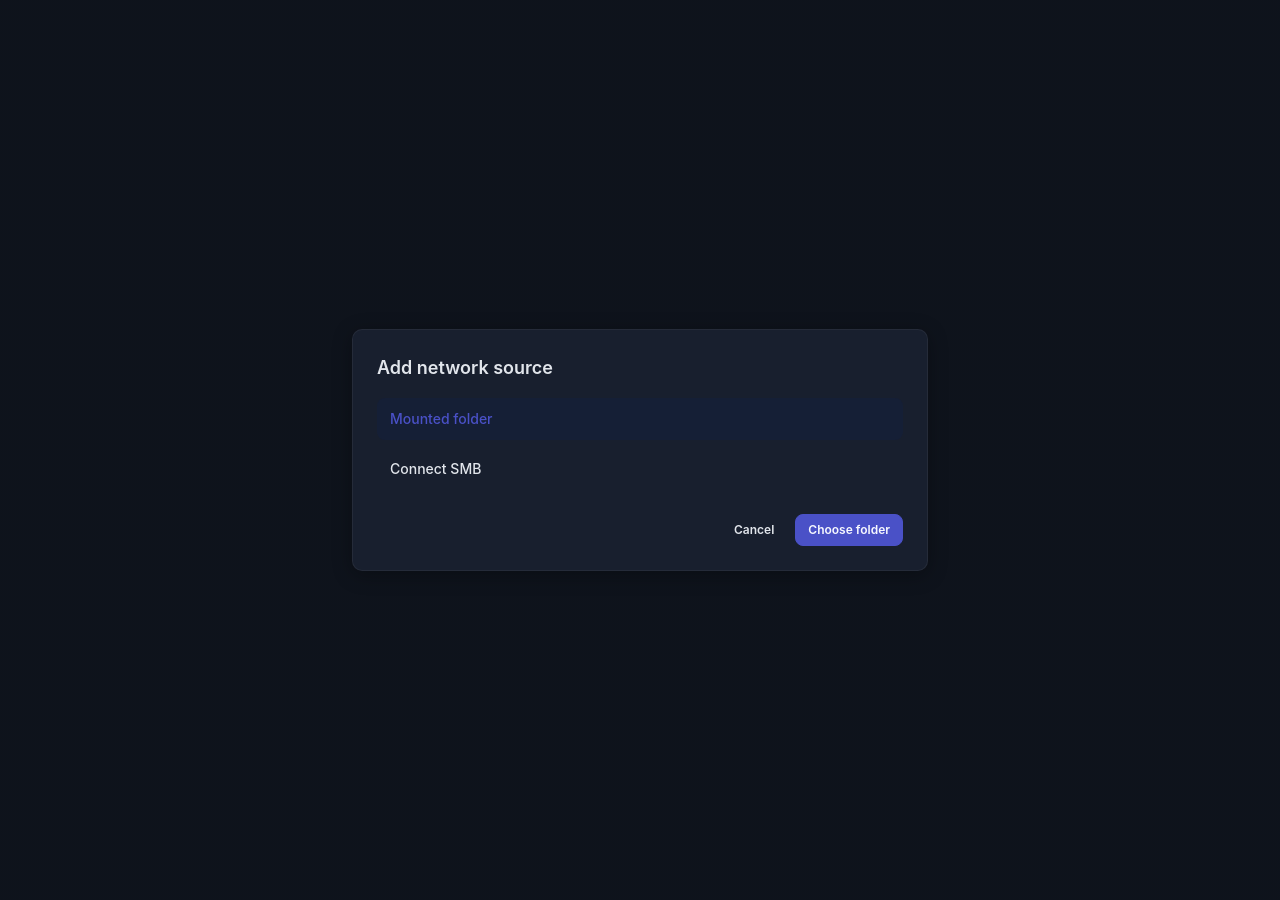
SmbConnectDialog › switches back to mounted mode
What coordinates should you click on to do the following:
click the button "Connect SMB"
I would click on:
 (436, 468)
Its box is [377,448,903,490].
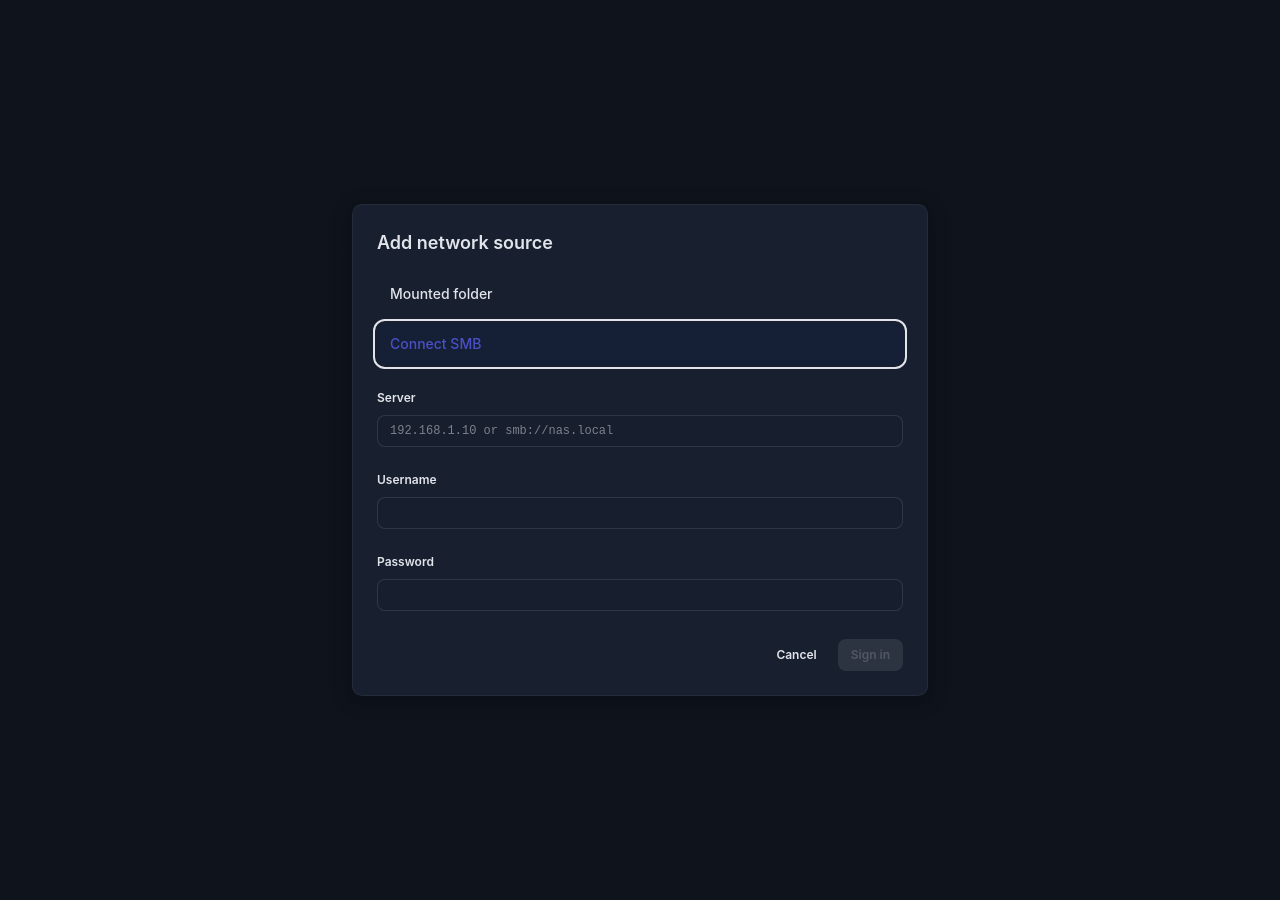
What coordinates should you click on to do the following:
click the button "Mounted folder"
I would click on:
 (441, 294)
Its box is [377,273,903,315].
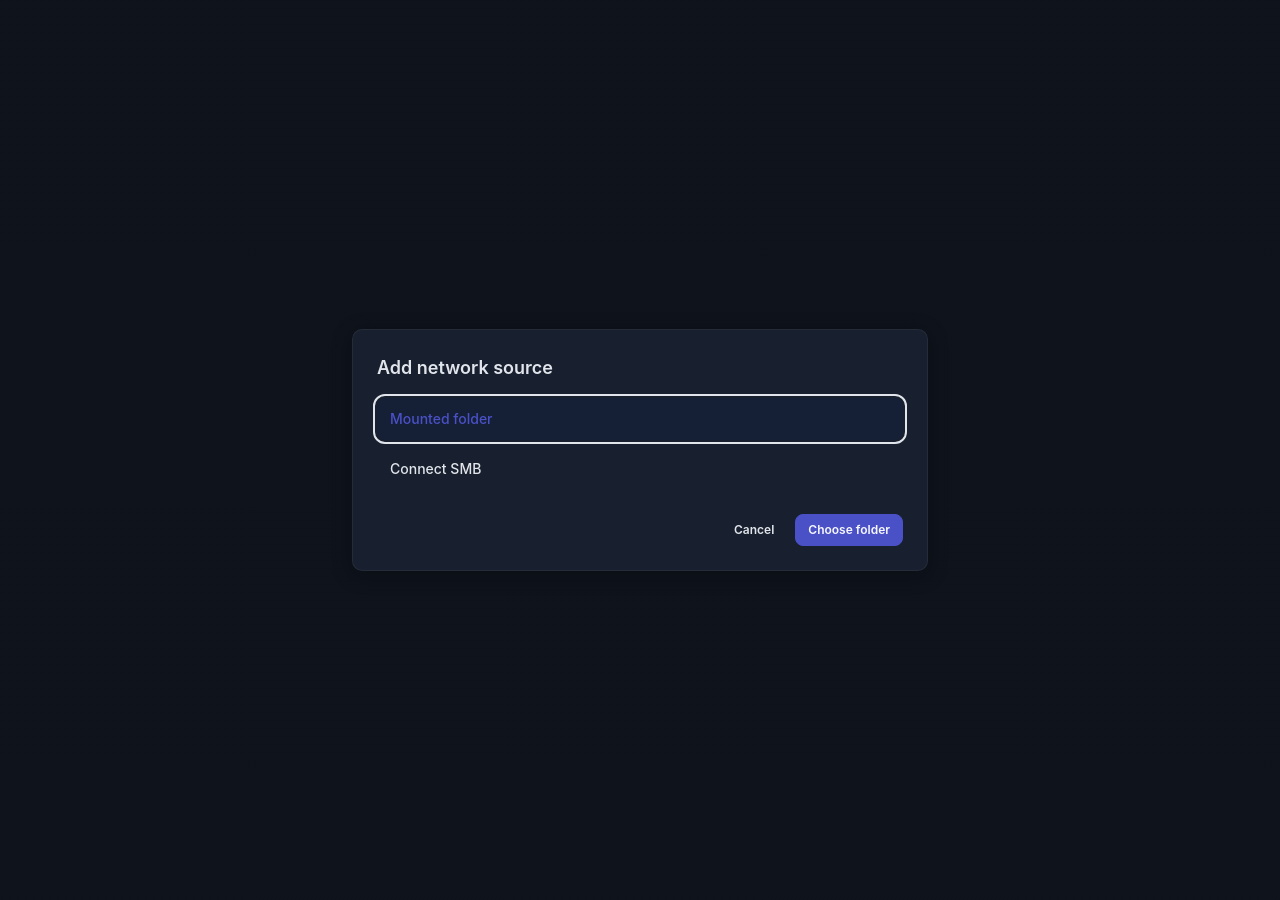
Result: the button "Choose folder" is shown at [795,514,903,546]
